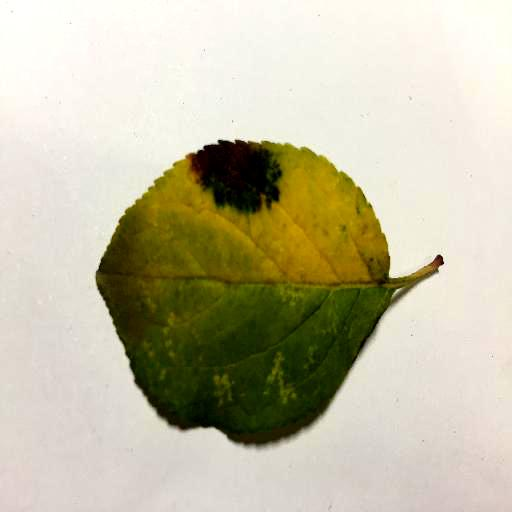Brown_Spot: (193, 143, 277, 206)
